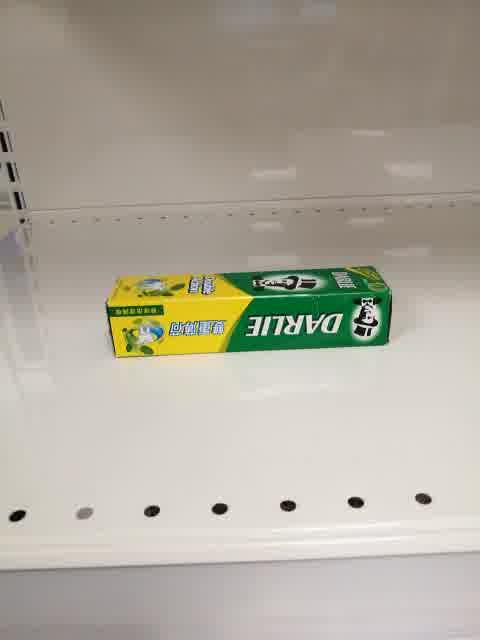toothpaste: (106, 265, 394, 357)
